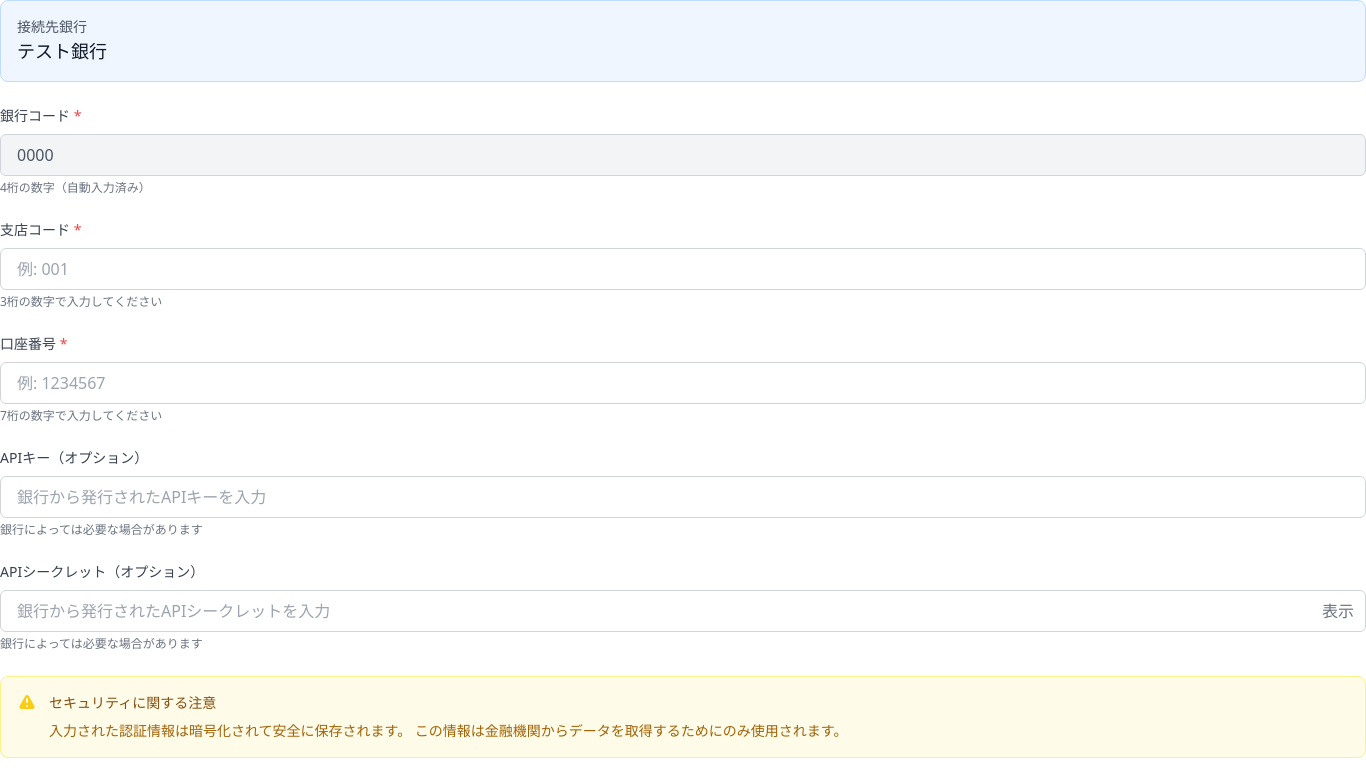
Test case: BankCredentialsForm › should validate branch code format
#  無効な値を入力
Step 1. Type "ab" into the field with placeholder "例: 001" → (683, 269), box [0, 248, 1365, 290]
(page scrolled)
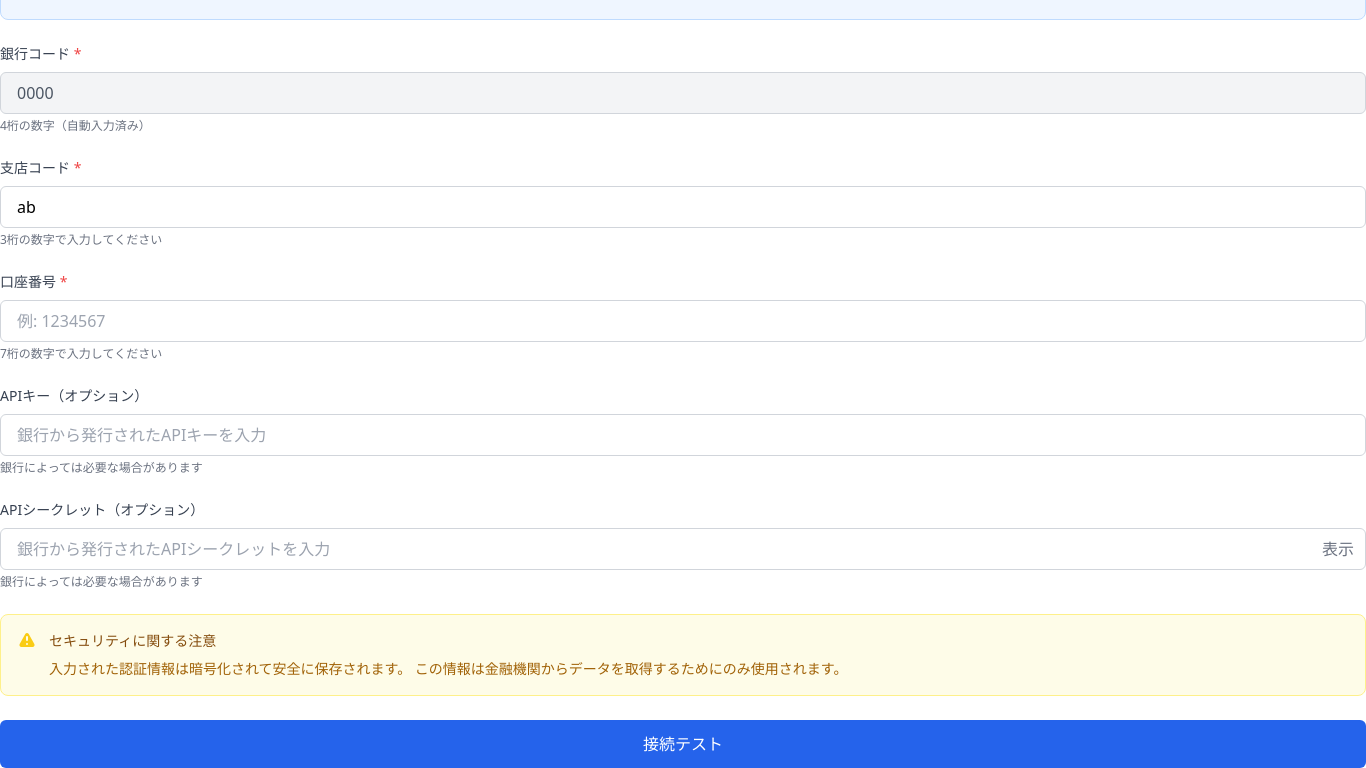
Step 2. Click the button "接続テスト" → (683, 744), box [0, 720, 1365, 767]
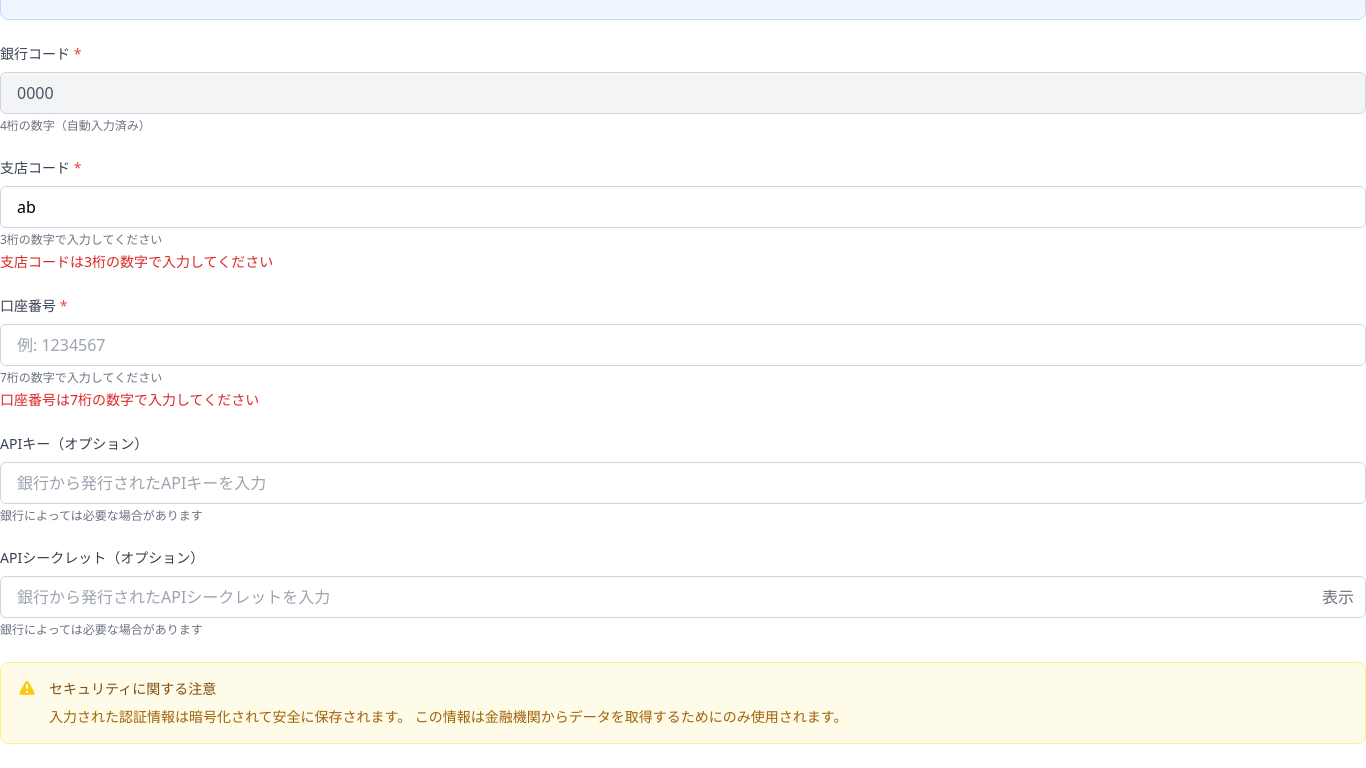
Now the text "支店コードは3桁の数字で入力してください" is shown, box [0, 252, 273, 271]
